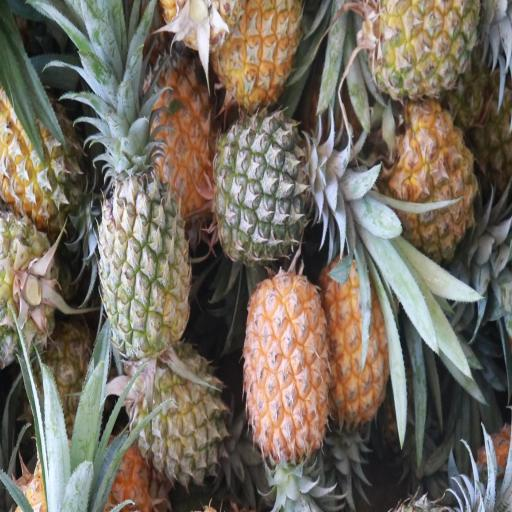------------------------------: (97, 149, 190, 346), (134, 343, 226, 477), (0, 94, 82, 229), (375, 0, 478, 93)
Pineapple - v8 v1: (246, 269, 330, 454), (387, 102, 476, 254), (324, 248, 395, 412), (147, 54, 217, 207), (217, 0, 303, 101)
